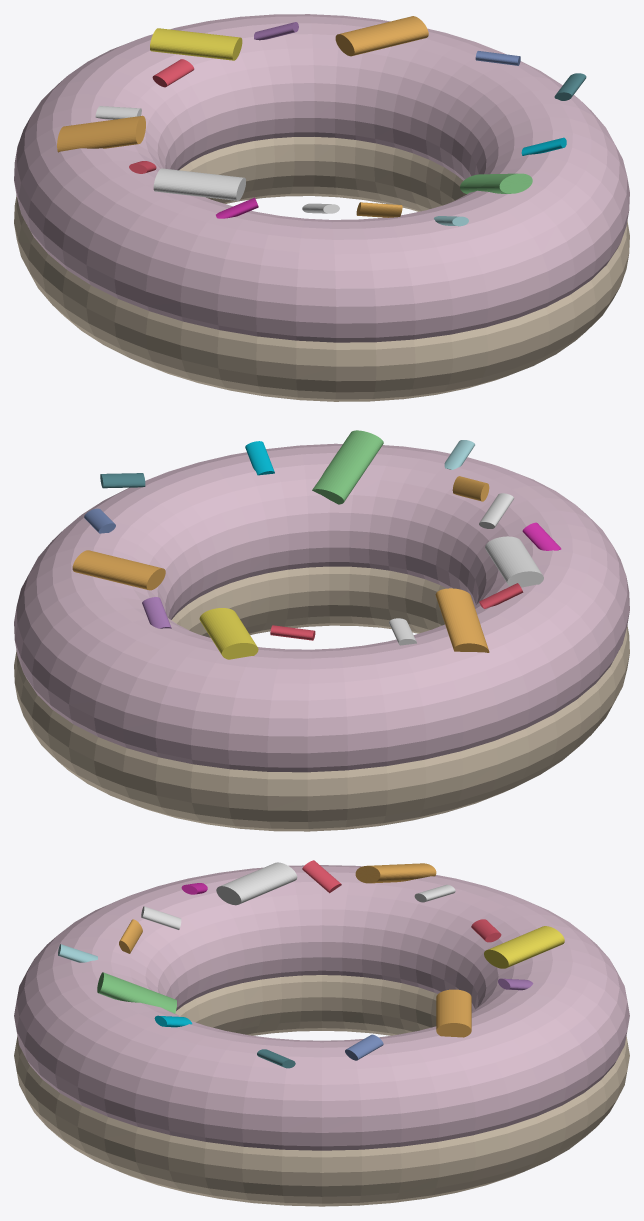
Rendered from Bree - Sprinkle Donut.glb.
The picture shows the model from 3 angles, top to bottom: view 1: azimuth 30°, elevation 25°; view 2: azimuth 150°, elevation 25°; view 3: azimuth 270°, elevation 25°; orthographic projection. The views are drawn at different scales.
Visible parts, largest first — view 1: Mesh_Mesh_head_geo.001_lambert2SG.001; view 2: Mesh_Mesh_head_geo.001_lambert2SG.001; view 3: Mesh_Mesh_head_geo.001_lambert2SG.001.
Part boxes in pixels (x1,y1,x2,y2): Mesh_Mesh_head_geo.001_lambert2SG.001: (14, 14, 629, 401); Mesh_Mesh_head_geo.001_lambert2SG.001: (14, 430, 629, 831); Mesh_Mesh_head_geo.001_lambert2SG.001: (14, 860, 629, 1206).
Size of the model in its own units: 0.063 by 0.0219 by 0.07.
